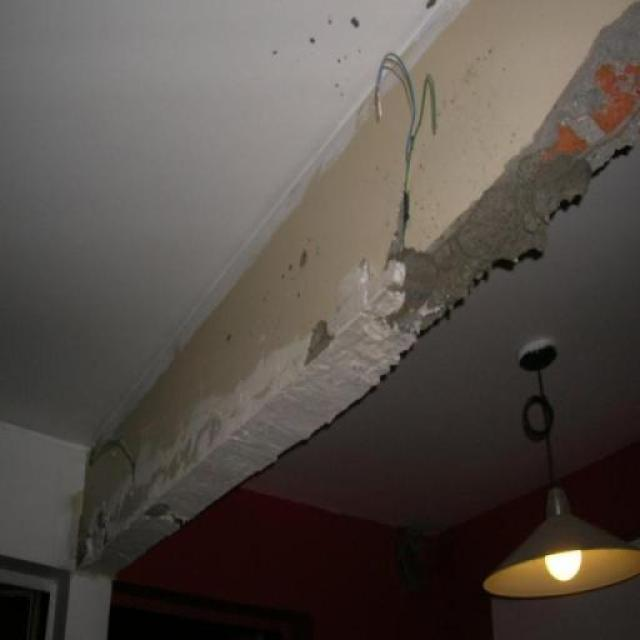D10: (384, 0, 639, 336)
